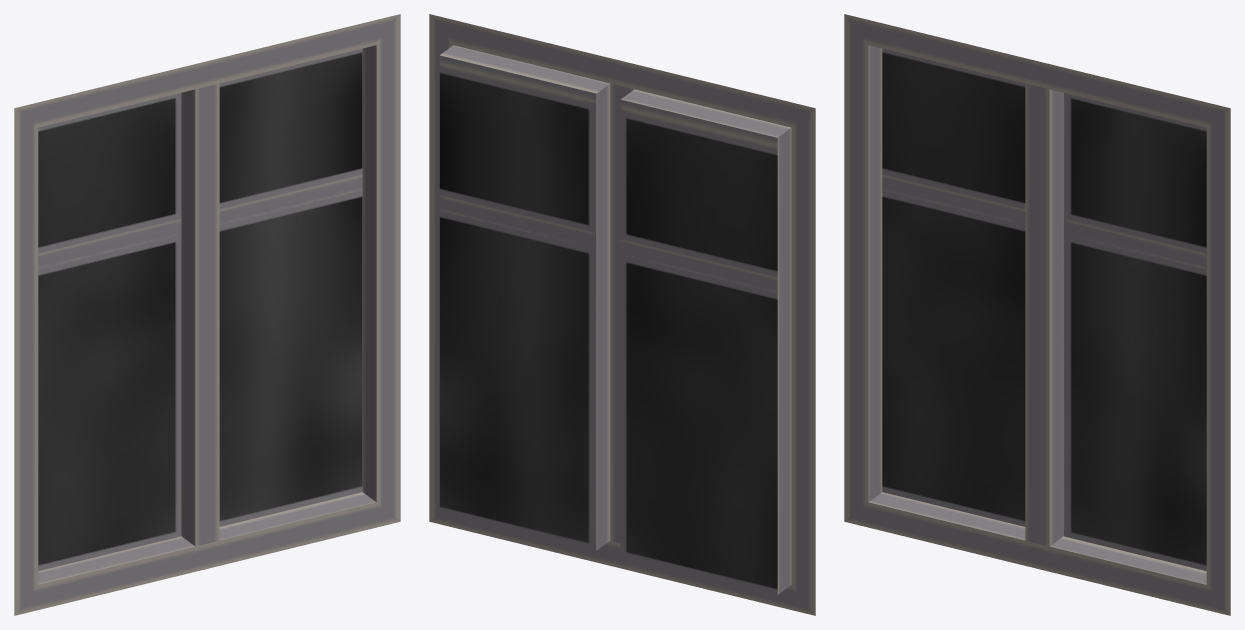
File: SM_ENV_K1_WINDOW_02.fbx
3 renders of one model, left to right at view 1: azimuth 30°, elevation 25°; view 2: azimuth 150°, elevation 25°; view 3: azimuth 330°, elevation 25°, orthographic.
Parts seen in each view (by area): view 1: SM_ENV_K1_WINDOW_02; view 2: SM_ENV_K1_WINDOW_02; view 3: SM_ENV_K1_WINDOW_02.
Boxes of the visible parts, box(x1,y1,x2,y2) form: SM_ENV_K1_WINDOW_02: box(14, 14, 400, 615); SM_ENV_K1_WINDOW_02: box(429, 14, 815, 615); SM_ENV_K1_WINDOW_02: box(844, 14, 1230, 615).
Bounding box in the file's own units: 0.8 × 1 × 0.05.
